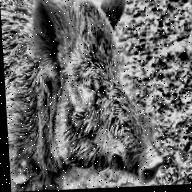boar: (1, 0, 176, 187)
